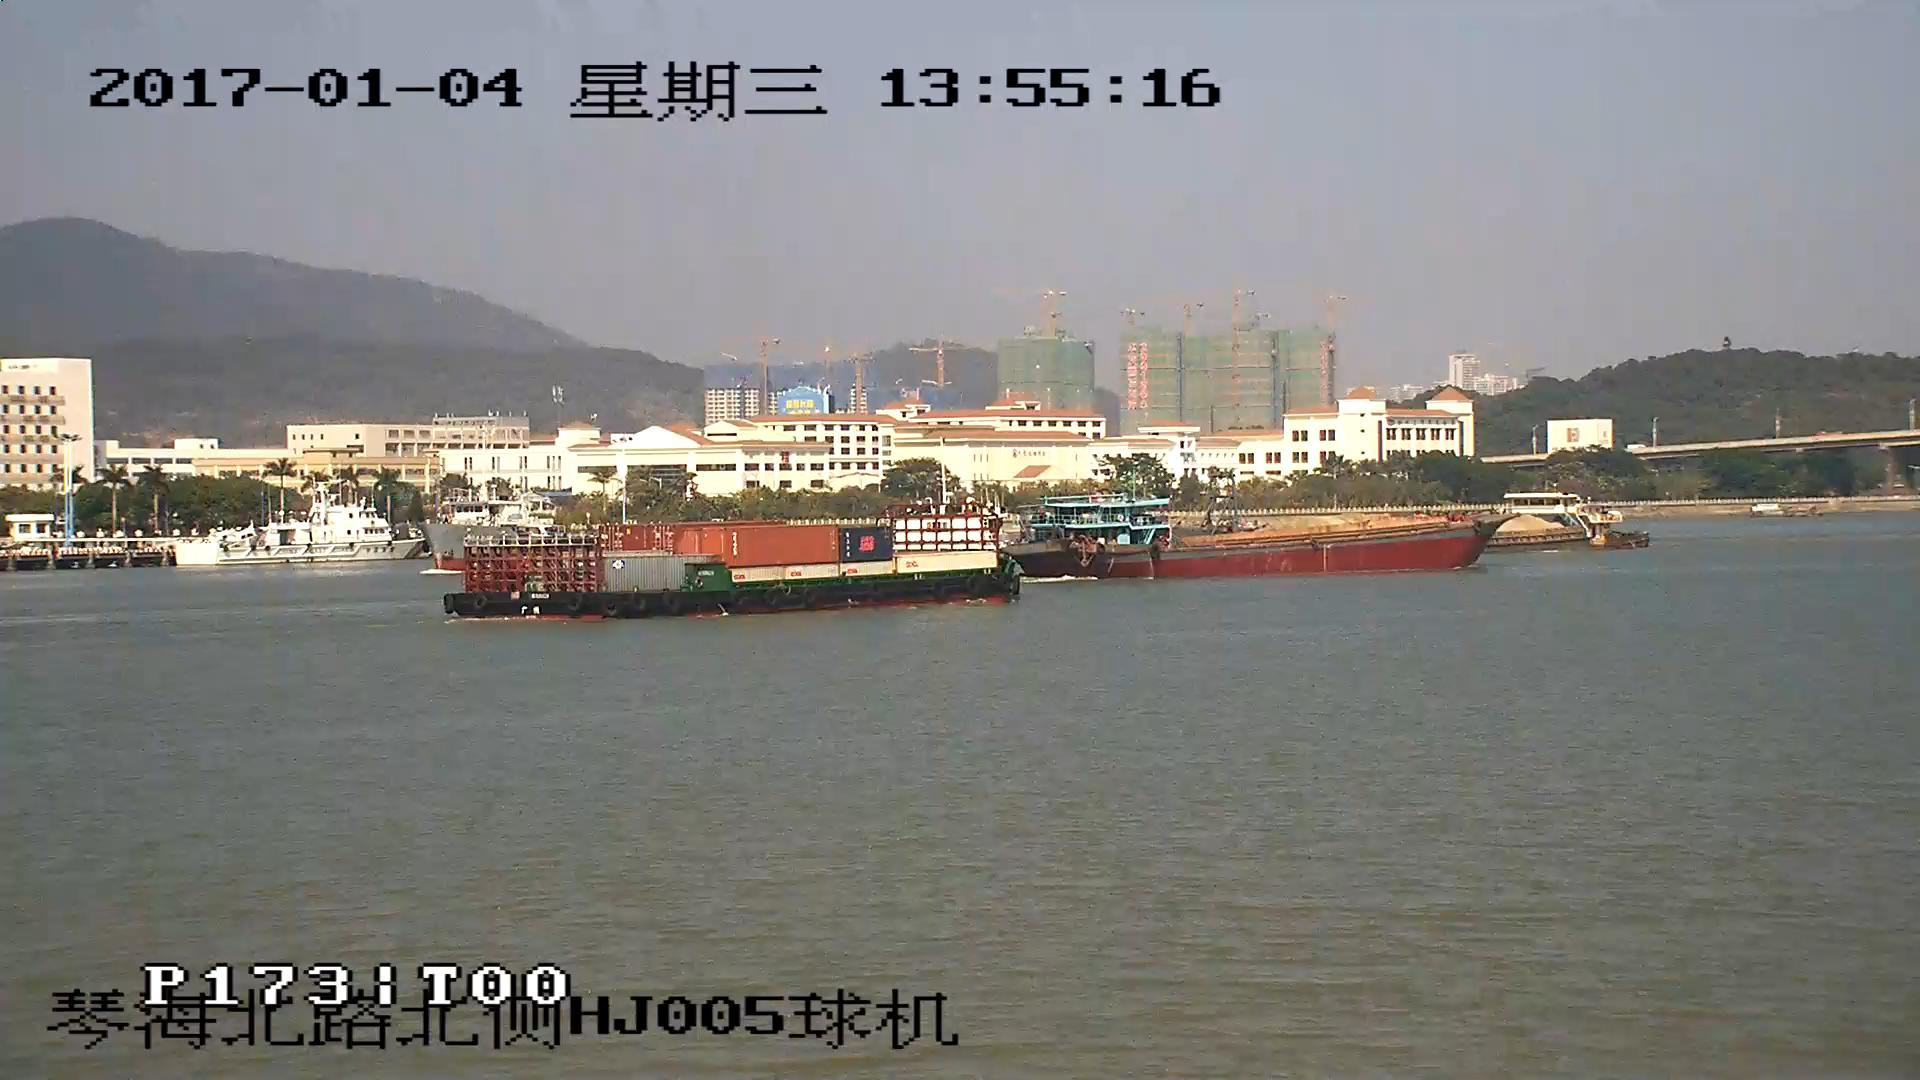bulk cargo carrier: (1021, 514, 1512, 582)
container ship: (445, 512, 1021, 616)
ore carrier: (1491, 489, 1644, 547)
